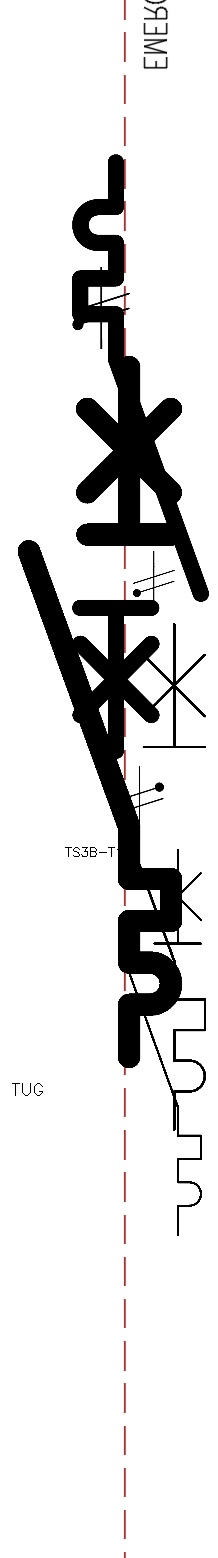interruptor_termomagnetico: (11, 349, 189, 1075), (65, 147, 216, 765), (88, 611, 218, 1143), (112, 840, 211, 1245)
